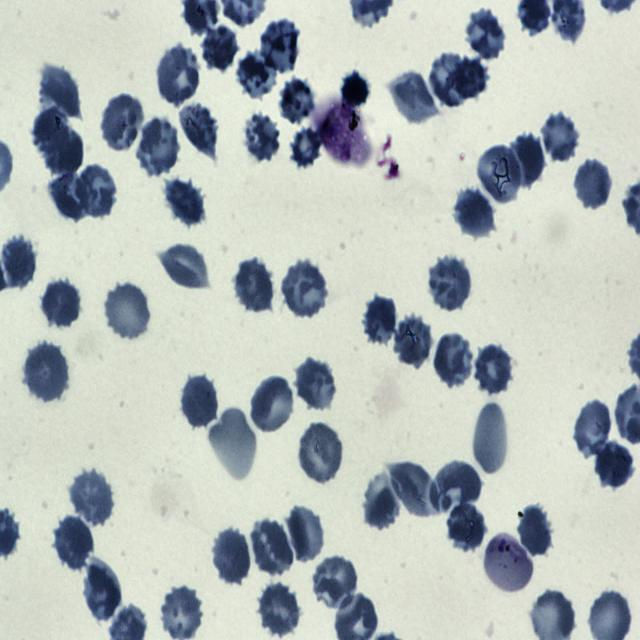red blood cell: (207, 406, 258, 480), (296, 420, 344, 485), (471, 400, 510, 478), (280, 258, 328, 320), (476, 145, 524, 206), (431, 460, 484, 515), (104, 280, 151, 342), (22, 343, 70, 403), (390, 71, 441, 126), (156, 44, 201, 105), (100, 92, 144, 153), (312, 554, 359, 610), (70, 468, 115, 526), (136, 116, 180, 175), (250, 518, 294, 576), (159, 240, 209, 291), (34, 69, 84, 120), (250, 375, 295, 431), (428, 254, 473, 310), (393, 461, 438, 517), (75, 163, 118, 220), (83, 562, 122, 624), (260, 16, 302, 73), (257, 582, 301, 636), (392, 312, 433, 369), (48, 168, 92, 221), (160, 586, 203, 640), (433, 330, 473, 388), (574, 397, 612, 458), (446, 499, 487, 555), (240, 110, 282, 164), (430, 53, 472, 107), (295, 356, 336, 411), (454, 186, 496, 239), (464, 7, 506, 60), (286, 505, 325, 562), (596, 438, 636, 492), (0, 232, 37, 290), (213, 530, 252, 585), (363, 475, 402, 530), (54, 516, 93, 570), (541, 110, 580, 164), (509, 133, 547, 188), (234, 260, 274, 312), (162, 175, 204, 224), (474, 342, 514, 393), (43, 129, 85, 177), (181, 374, 218, 428), (364, 294, 401, 348), (42, 276, 81, 327), (178, 101, 216, 153), (574, 157, 611, 210), (234, 52, 276, 98), (517, 506, 554, 558), (31, 106, 69, 155), (202, 23, 238, 71), (280, 75, 314, 124), (452, 58, 490, 99), (290, 127, 322, 168)
ring: (484, 532, 534, 595)
trophozoite: (320, 100, 370, 165)
